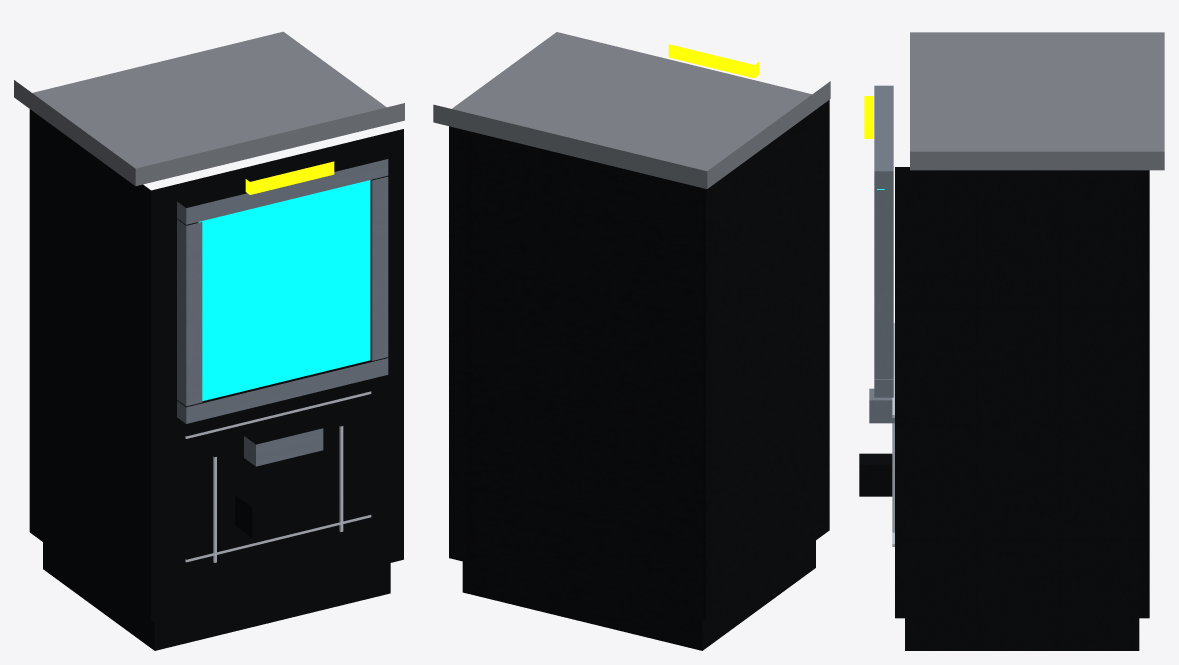
The model's file is v2_rally_kiosk.glb.
3 views of the same model, side by side, from view 1: azimuth 30°, elevation 25°; view 2: azimuth 150°, elevation 25°; view 3: azimuth 270°, elevation 25° (orthographic). The views are drawn at different scales.
Parts seen in each view (by area): view 1: Kiosk_Body, Kiosk_Top, Kiosk_Screen, Kiosk_Bezel, Ticket_Mouth, Net_Face, Card_Slot, Score_LED; view 2: Kiosk_Body, Kiosk_Top, Score_LED; view 3: Kiosk_Body, Kiosk_Top, Kiosk_Bezel, Ticket_Mouth, Card_Slot, Net_Face.
Part boxes in pixels (left/top/right/bottom): Kiosk_Body: left=29, top=109, right=403, bottom=650; Kiosk_Top: left=14, top=31, right=404, bottom=186; Kiosk_Screen: left=198, top=180, right=370, bottom=401; Kiosk_Bezel: left=177, top=159, right=388, bottom=423; Ticket_Mouth: left=235, top=487, right=336, bottom=538; Net_Face: left=185, top=391, right=371, bottom=562; Card_Slot: left=244, top=428, right=323, bottom=466; Score_LED: left=245, top=161, right=334, bottom=194; Kiosk_Body: left=449, top=100, right=829, bottom=650; Kiosk_Top: left=433, top=32, right=830, bottom=188; Score_LED: left=668, top=44, right=758, bottom=78; Kiosk_Body: left=895, top=167, right=1149, bottom=650; Kiosk_Top: left=910, top=32, right=1164, bottom=170; Kiosk_Bezel: left=874, top=85, right=893, bottom=397; Ticket_Mouth: left=859, top=453, right=892, bottom=496; Card_Slot: left=869, top=388, right=894, bottom=423; Net_Face: left=892, top=323, right=894, bottom=546.
Size of what is drawn, in the model's own units: 0.64 by 1.1 by 0.6.
Materials: 6 (3 with a texture image).
